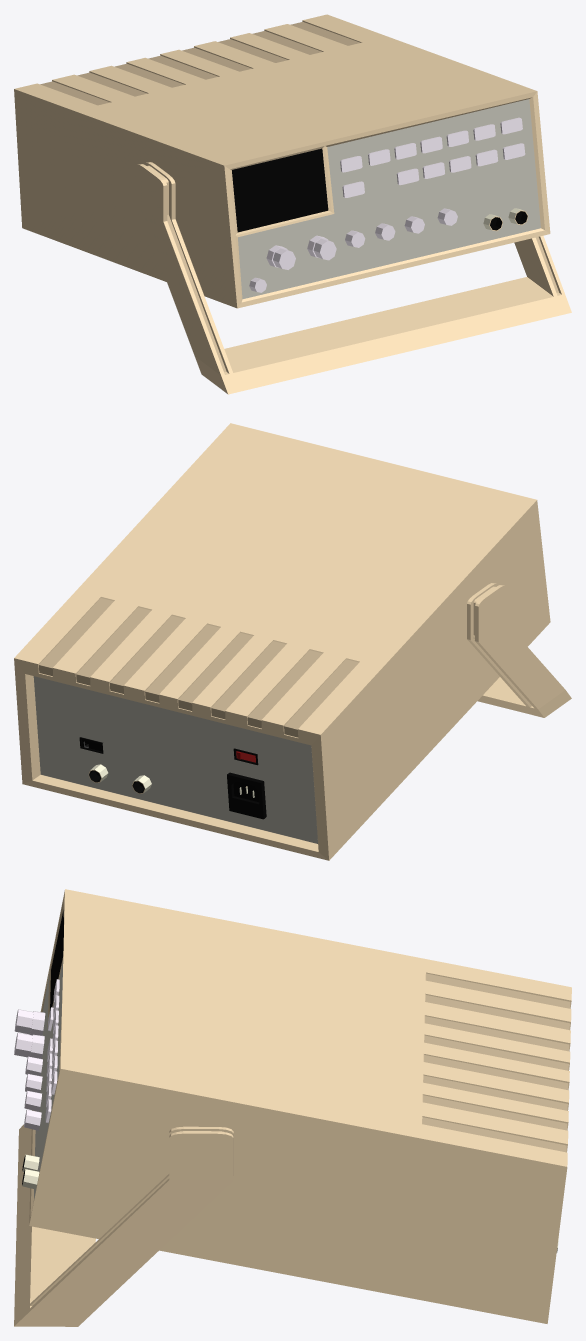
The model's file is frekuensi_generator_v4.gltf.
The picture shows the model from 3 angles, top to bottom: view 1: azimuth 30°, elevation 25°; view 2: azimuth 150°, elevation 25°; view 3: azimuth 270°, elevation 25°; orthographic projection. The views are drawn at different scales.
Parts seen in each view (by area): view 1: frequency generator; view 2: frequency generator; view 3: frequency generator.
Part boxes in pixels (<box>): frequency generator: <box>14,14,571,394</box>; frequency generator: <box>14,423,571,860</box>; frequency generator: <box>14,889,571,1326</box>.
Size of the model in its own units: 0.3755 by 0.2234 by 0.446.
